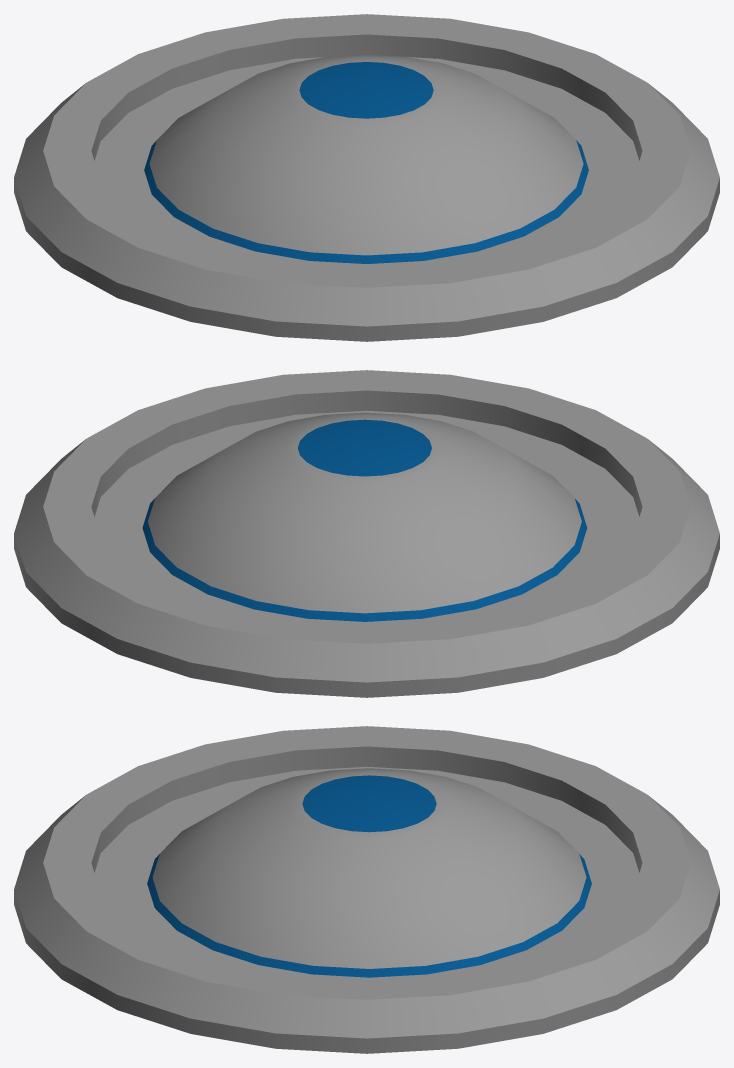
The model's file is cntr crcl.FBX.
The picture shows the model from 3 angles, top to bottom: view 1: azimuth 30°, elevation 25°; view 2: azimuth 150°, elevation 25°; view 3: azimuth 270°, elevation 25°; orthographic projection.
Parts seen in each view (by area): view 1: Cylinder001; view 2: Cylinder001; view 3: Cylinder001.
Part boxes in pixels (<box>): Cylinder001: <box>14,14,719,341</box>; Cylinder001: <box>14,370,719,697</box>; Cylinder001: <box>14,726,719,1053</box>.
Bounding box in the file's own units: 0.1168 × 0.0254 × 0.1168.
